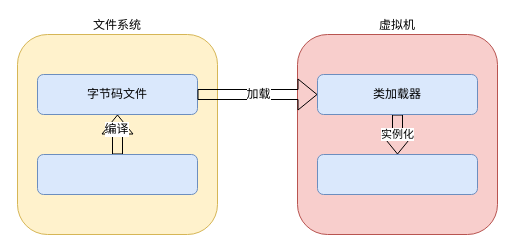
The diagram is 515 pixels wide and 252 high, and some of its shapes have lost their labels. The centre of each missing label's shape, as x and y in pixels:
java文件: point 117,174
对象: point 397,174
